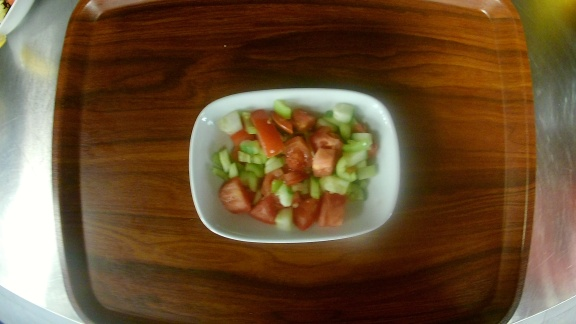cobansalata: (188, 87, 401, 243)
